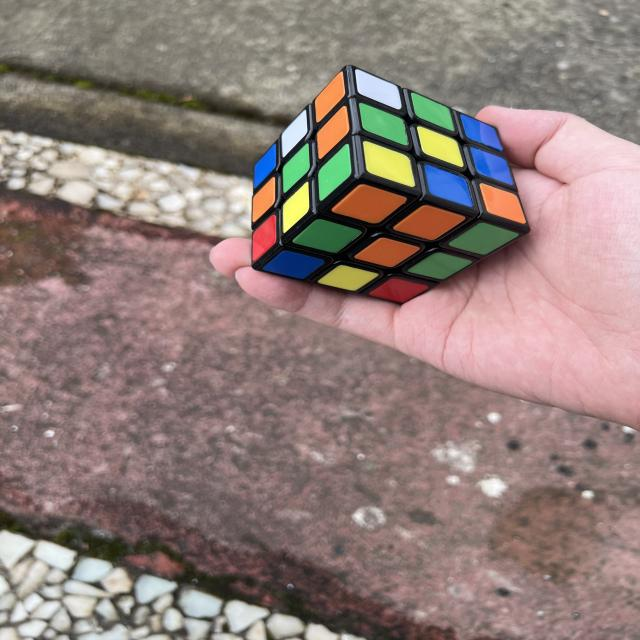blue: (416, 163, 480, 209), (262, 246, 325, 284), (463, 146, 520, 186), (453, 113, 509, 152), (243, 144, 286, 189)
center: (353, 231, 420, 274), (270, 142, 322, 193), (409, 125, 470, 168)
green: (447, 209, 519, 268), (304, 143, 365, 202), (292, 212, 362, 261), (351, 102, 416, 147), (407, 245, 473, 287), (270, 142, 322, 193), (403, 91, 461, 133)
orange: (331, 177, 407, 232), (393, 197, 466, 248), (305, 104, 361, 159), (353, 231, 421, 274), (304, 71, 355, 124), (472, 182, 533, 225), (240, 176, 287, 223)
red: (239, 213, 289, 262), (368, 274, 429, 307)
white: (347, 68, 408, 111), (270, 109, 318, 157)
yellow: (354, 140, 423, 189), (269, 181, 322, 234), (409, 125, 470, 169), (317, 259, 379, 296)
